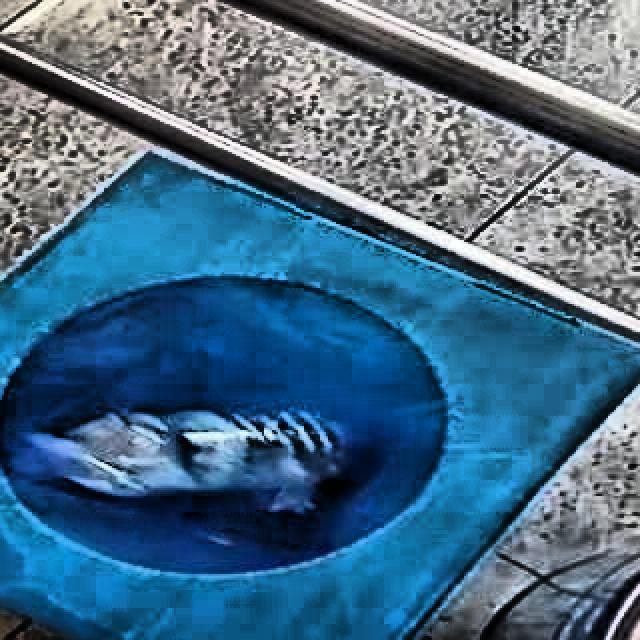plastic: (29, 412, 347, 513)
